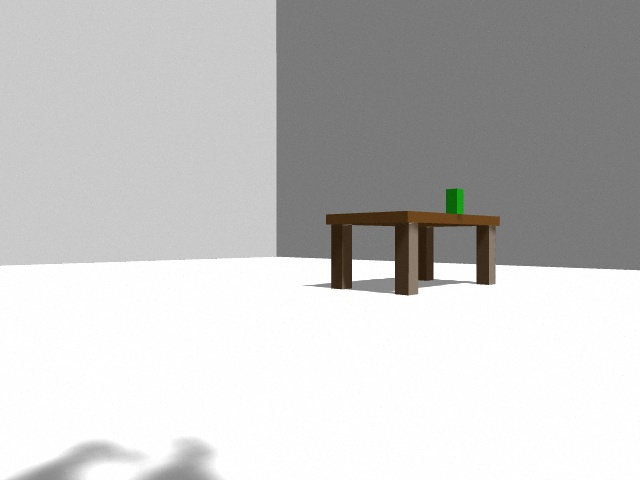green_cube: (446, 189, 464, 214)
